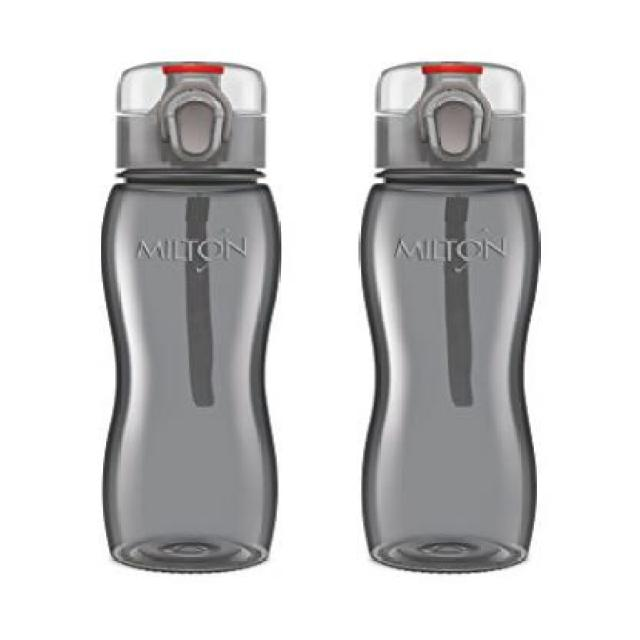Drinking: (84, 39, 297, 588), (351, 50, 558, 582)
